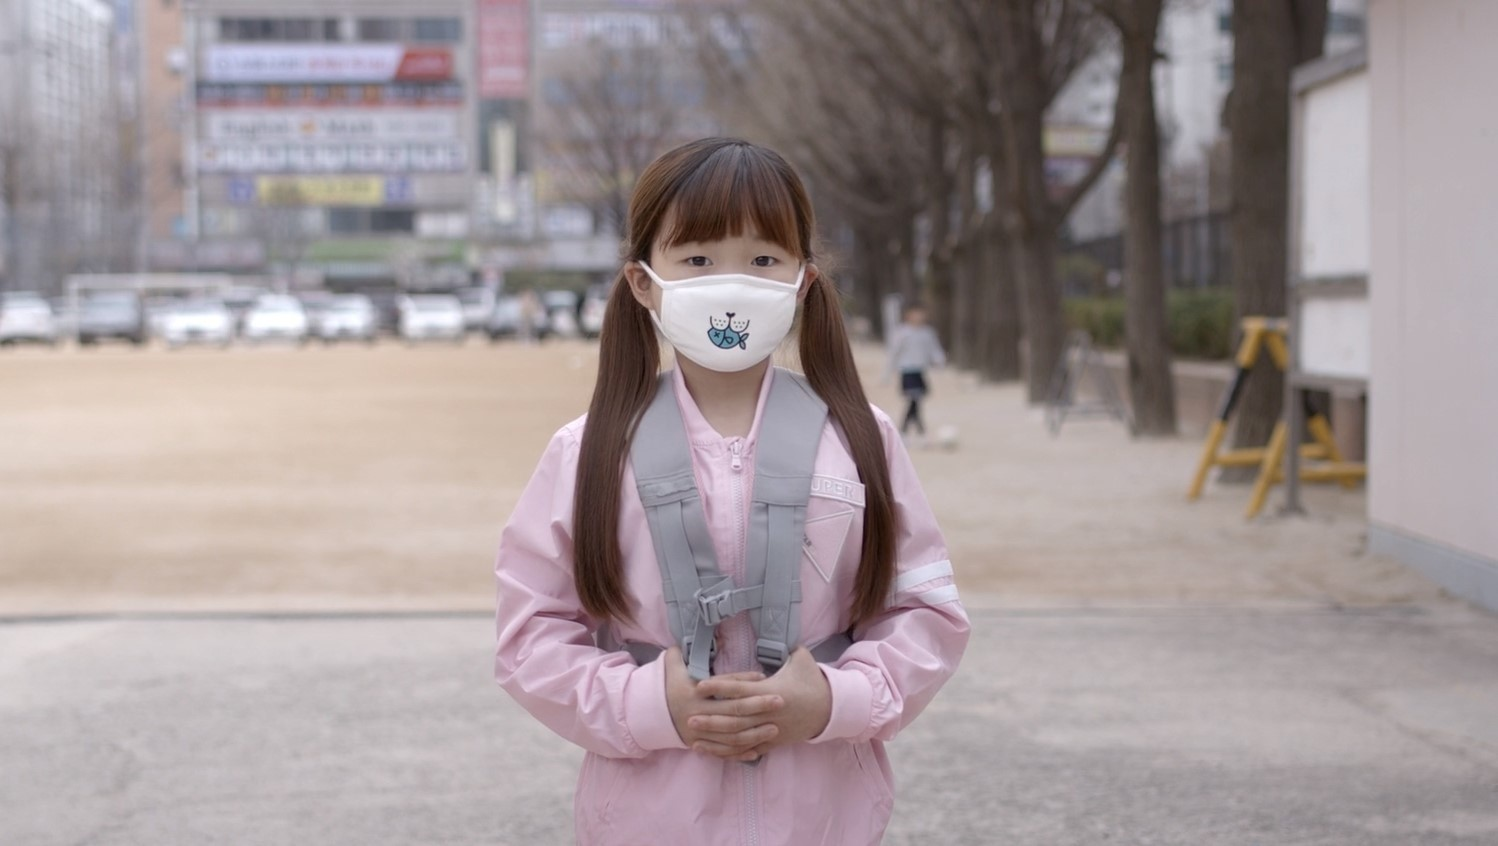face_with_mask: (618, 153, 830, 401)
